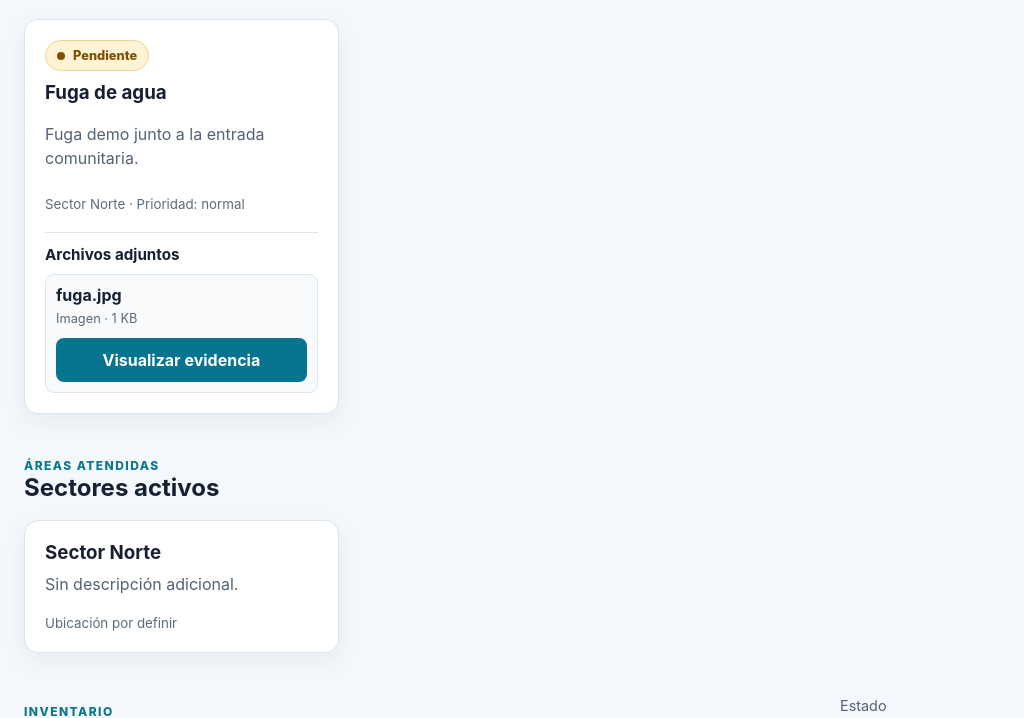
Test: updates without replacing the page › requests a private temporary S3 URL and previews report evidence
(page scrolled)
Expected: the element named "Estado: Pendiente" is shown, [45, 40, 149, 71]
Click the button "Visualizar evidencia". click: (181, 360)
box: [56, 338, 307, 382]
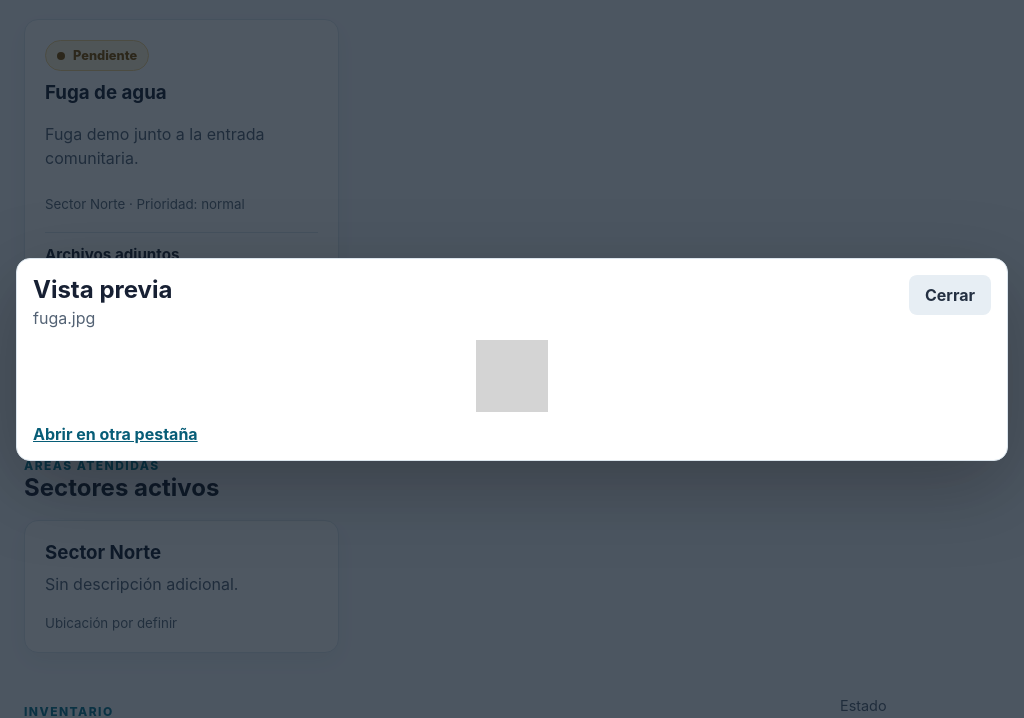
Expected: the dialog named "Vista previa de fuga.jpg" is shown, [16, 258, 1008, 460]
Click the button with aria-label "Cerrar vista previa". click: (950, 294)
box: [909, 274, 991, 314]
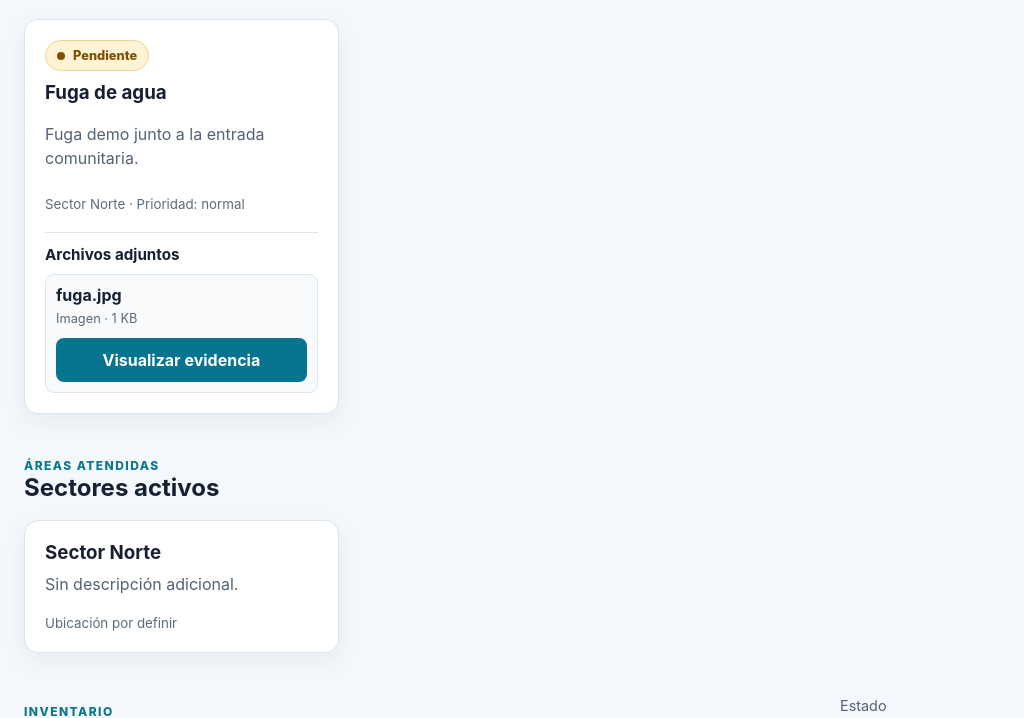
Expected: the dialog is gone
